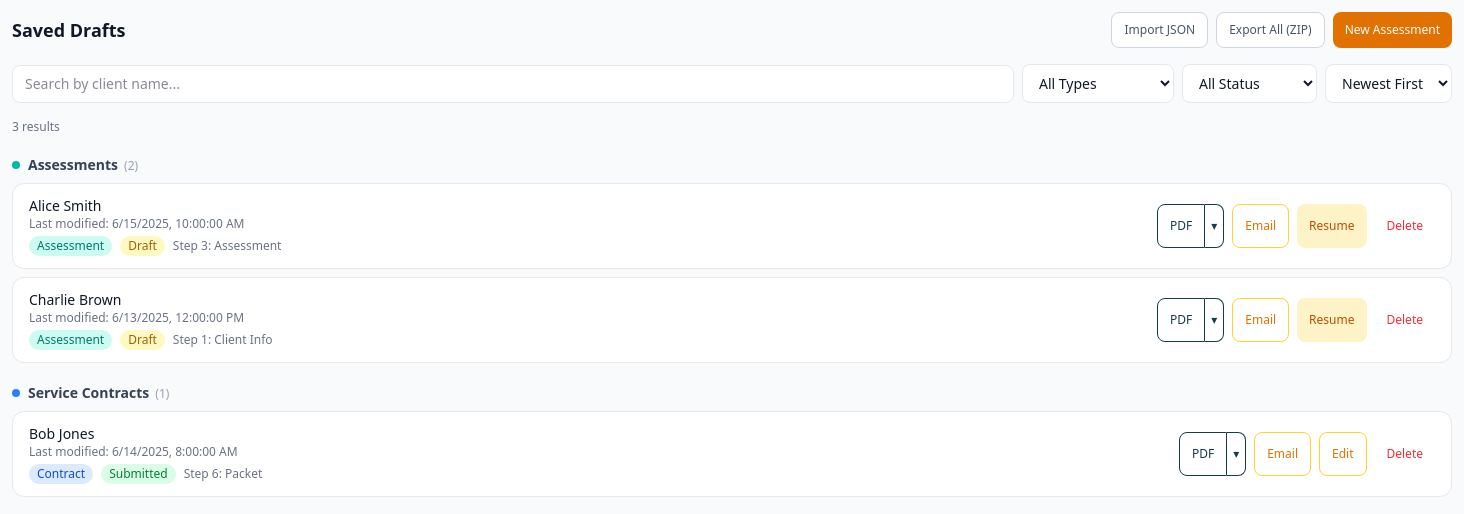
DraftManager › filter and sort › filters by status
Expected: the text "Alice Smith" is shown, [29, 196, 102, 215]
Select "Submitted (1)" in the dropdown named "Filter drafts by status" at (1250, 84), box [1182, 64, 1317, 103]
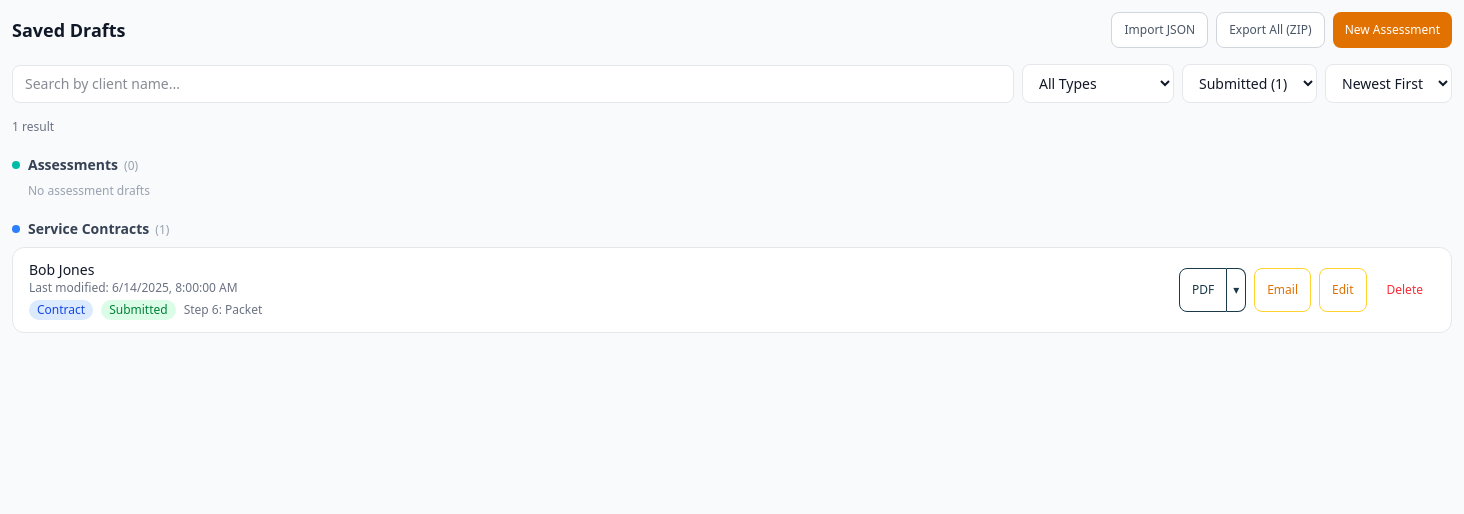
Expected: the text "Bob Jones" is shown, [29, 260, 94, 279]
Expected: the text "Alice Smith" is gone
